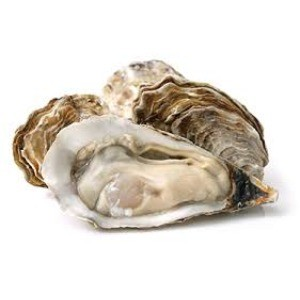oyster_brain food: (35, 111, 243, 232)
